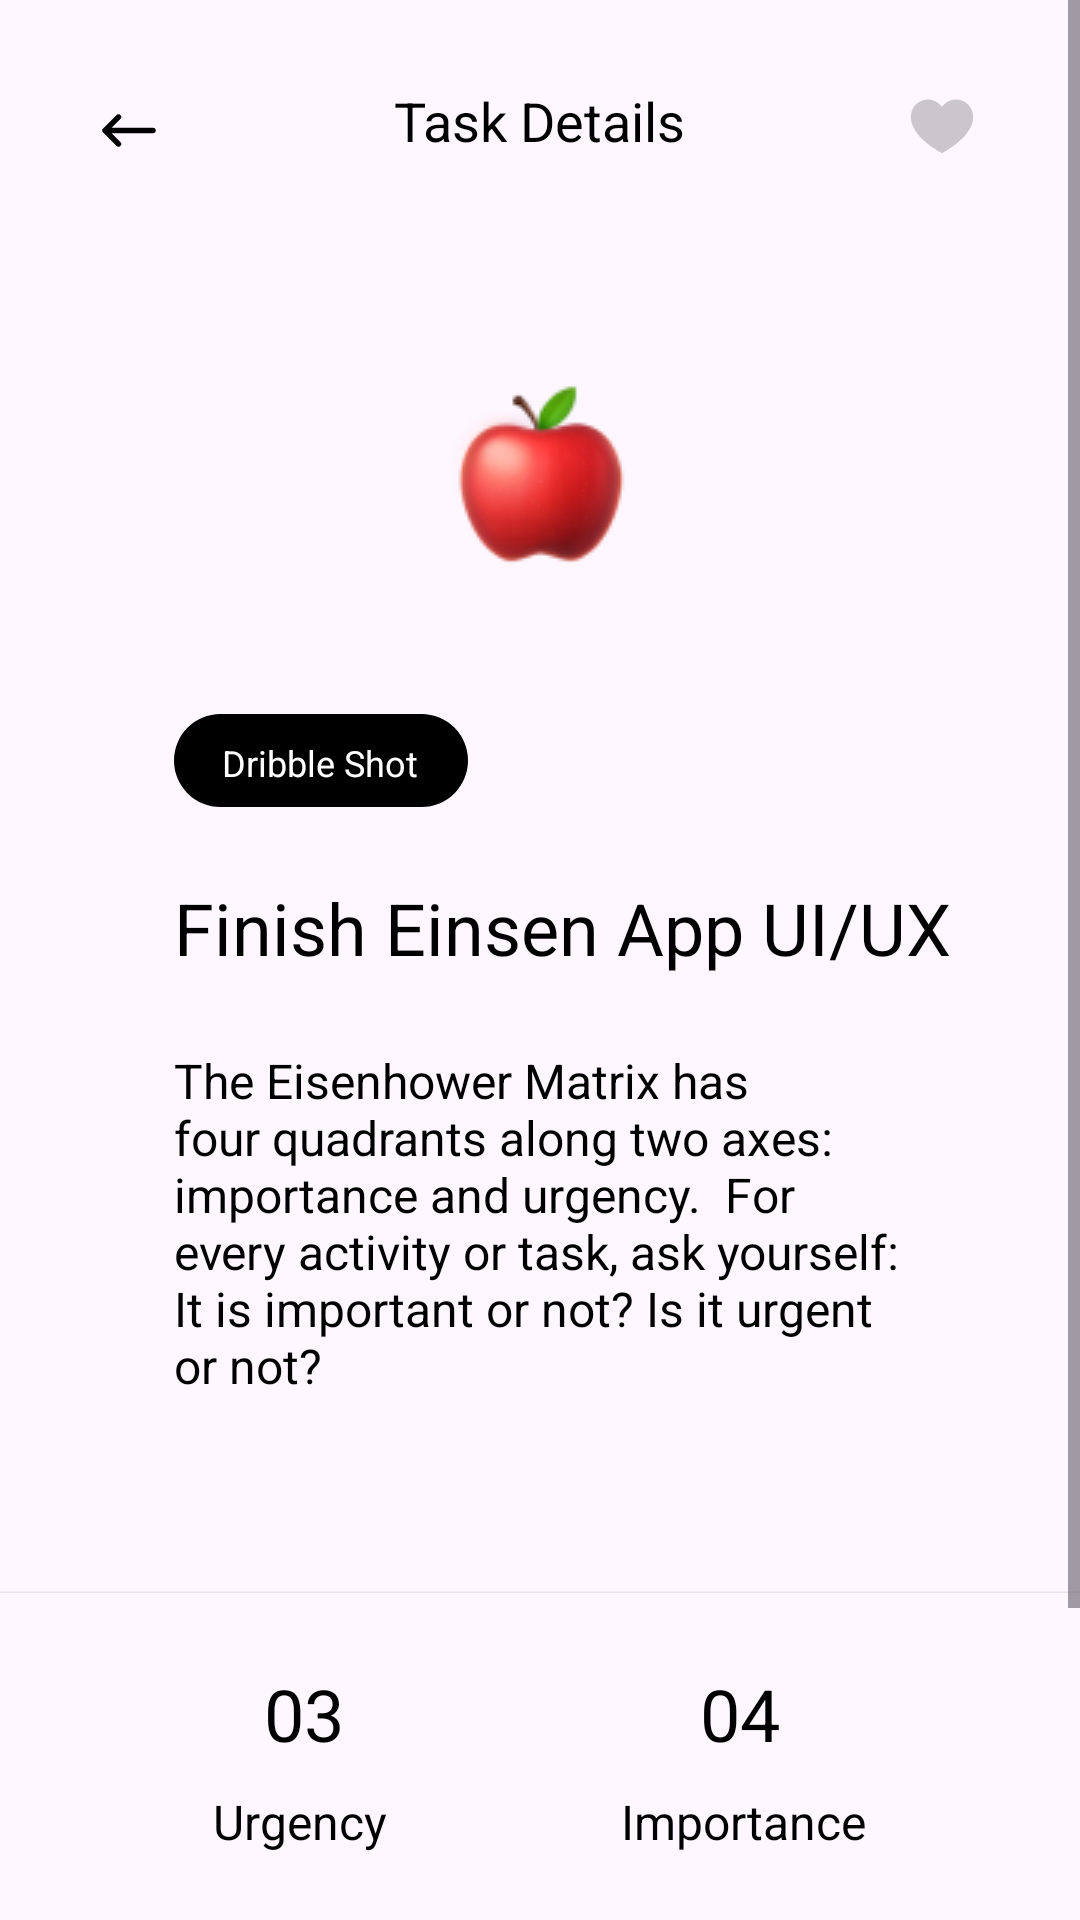

Where to tap for icons on this 1080w x 1920h app screen, as (x=x, y=y):
apple: (x=541, y=474)
arrow: (x=129, y=130)
heart: (x=942, y=126)
